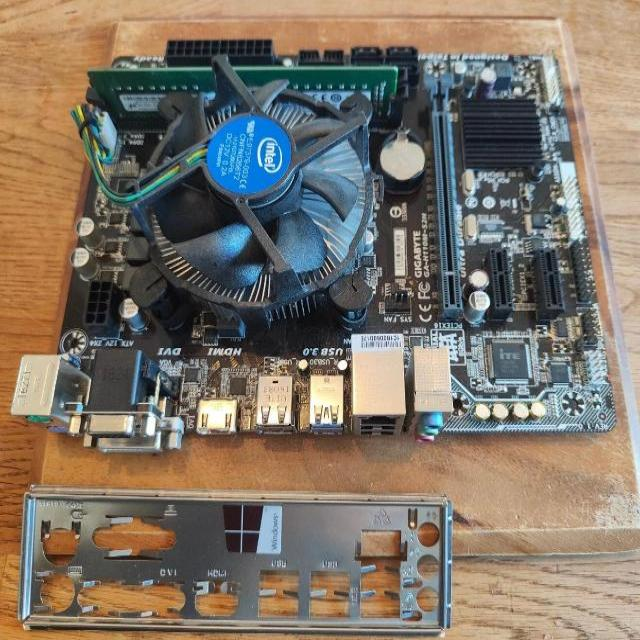CPU_Fan: (126, 52, 387, 334)
